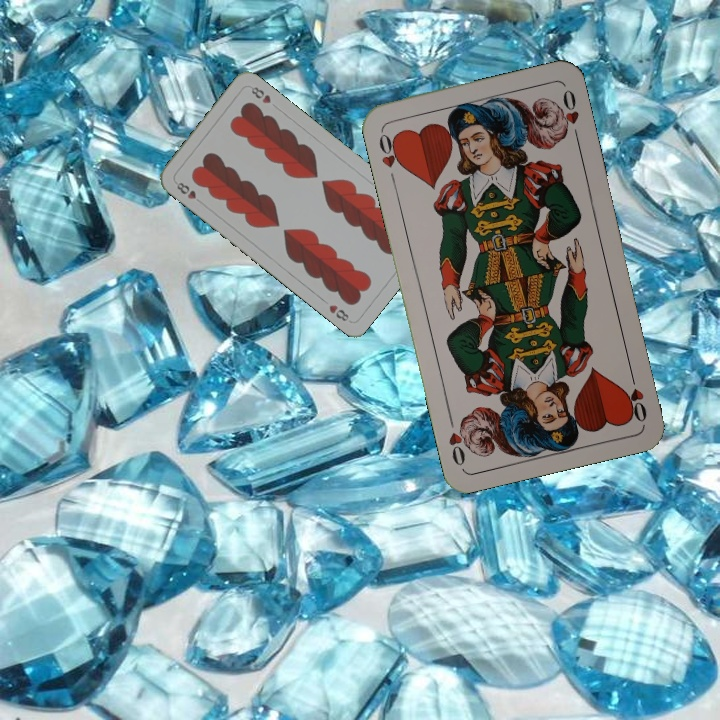H8: (172, 178, 199, 202)
HO: (375, 128, 405, 186), (622, 367, 650, 425)
